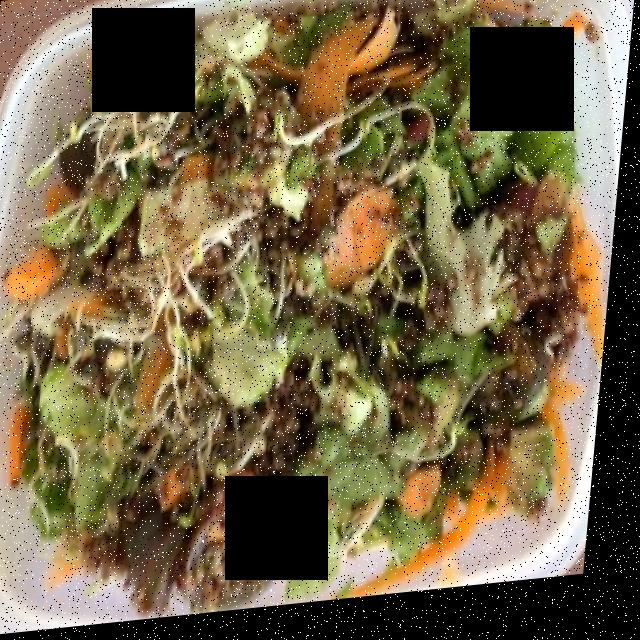quinoa: (201, 92, 585, 606)
salad-leaf-salad-green: (21, 7, 570, 581)
